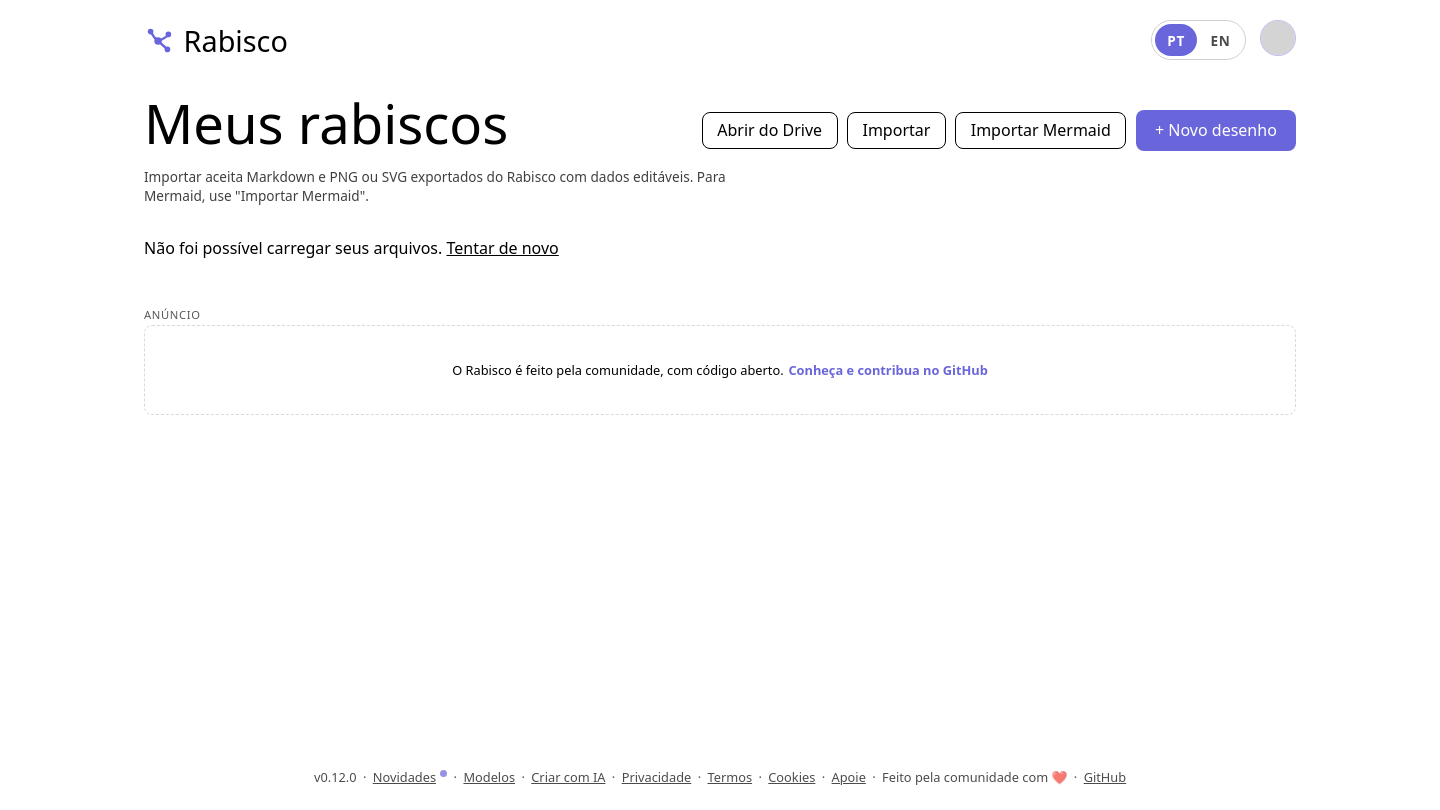
Scenario: shows an error with a retry that reloads the list
Click the button "Tentar de novo": [503, 248] box top-left (446, 237), bottom-right (559, 259)
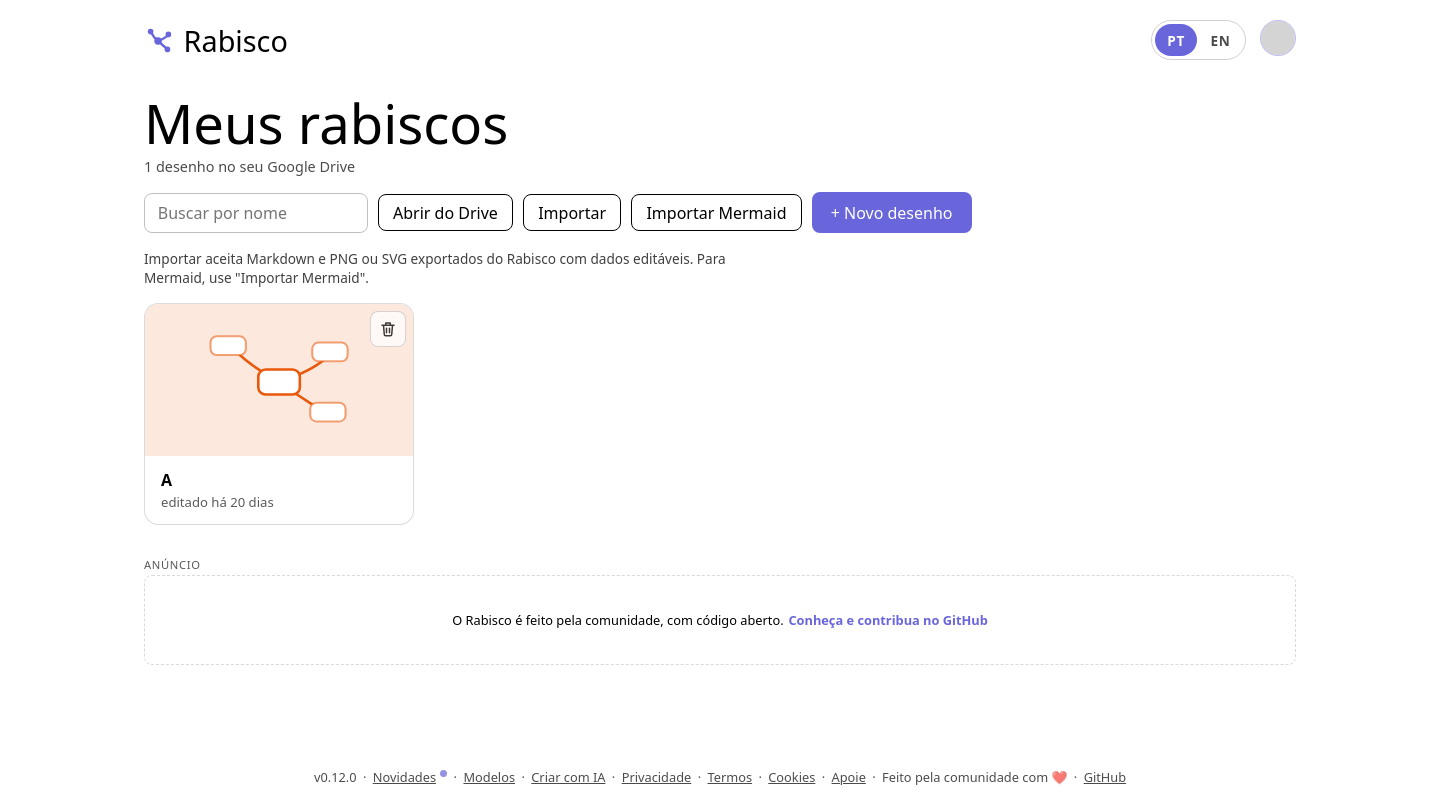
expect the link "A editado há 20 dias" is shown: met, box top-left (144, 303), bottom-right (414, 525)
